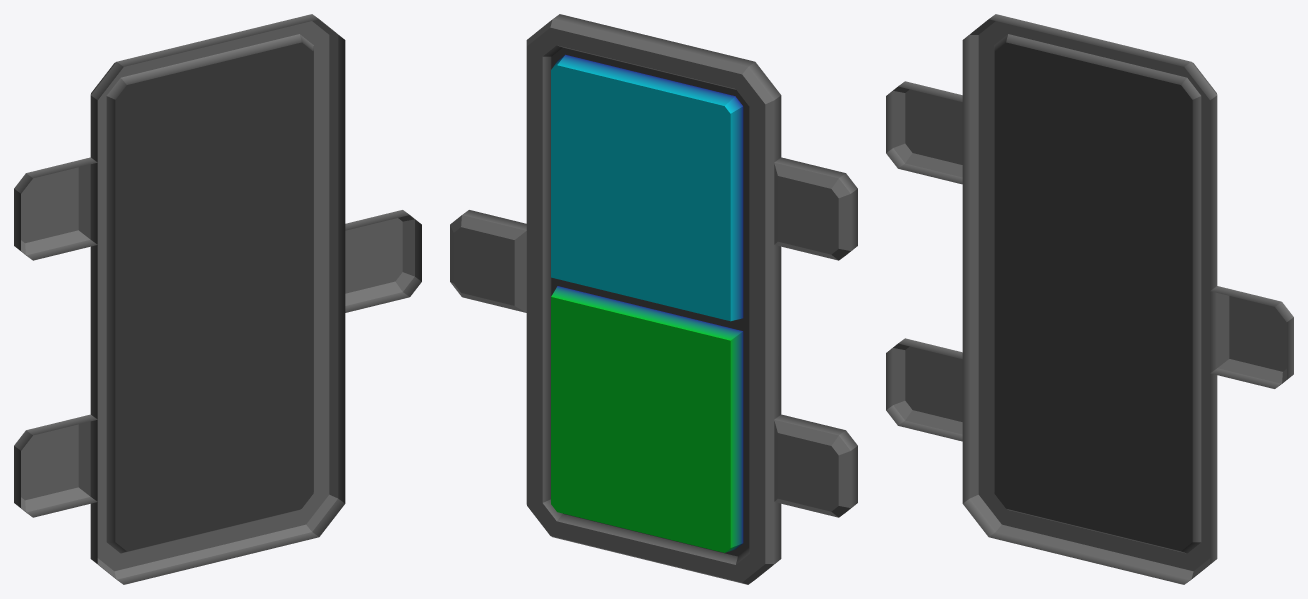
The model's file is Panel.fbx.
The picture shows the model from 3 angles, left to right: view 1: azimuth 30°, elevation 25°; view 2: azimuth 150°, elevation 25°; view 3: azimuth 330°, elevation 25°; orthographic projection.
Visible parts, largest first — view 1: DoorPanel00; view 2: DoorPanel00; view 3: DoorPanel00.
Part boxes in pixels (x1=…): DoorPanel00: x1=14, y1=14, x2=421, y2=584; DoorPanel00: x1=450, y1=14, x2=857, y2=584; DoorPanel00: x1=886, y1=14, x2=1293, y2=584.
Size of the model in its own units: 32.39 by 40 by 2.34.
